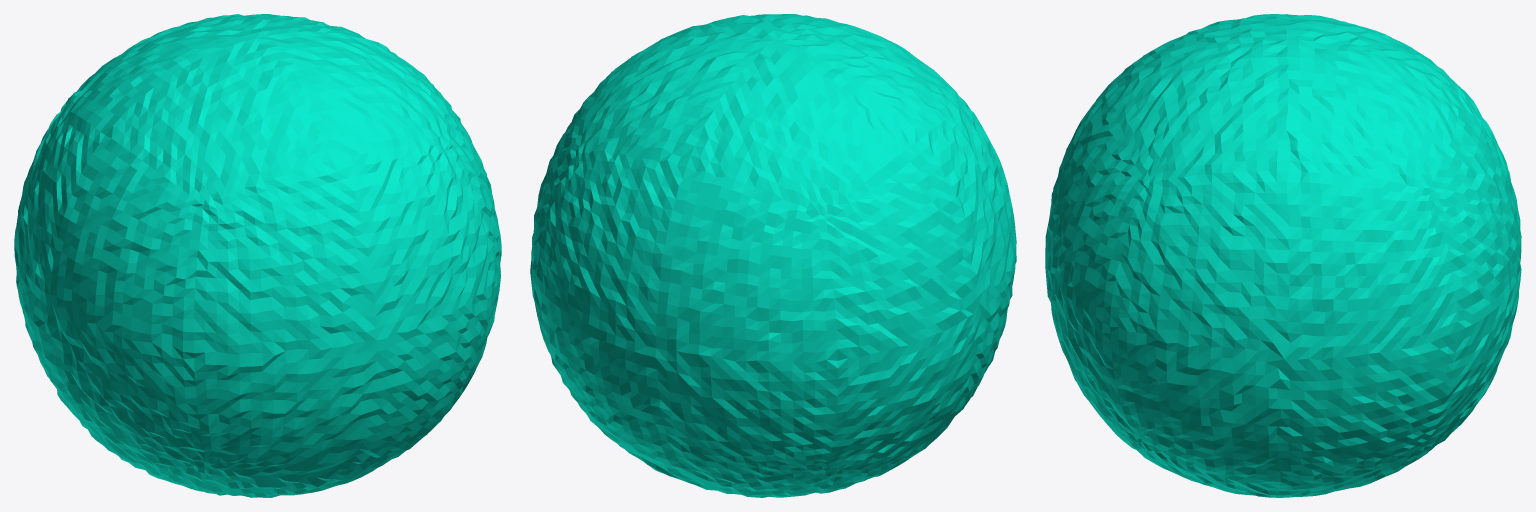
File: Sea23.fbx
3 views of the same model, side by side, from view 1: azimuth 30°, elevation 25°; view 2: azimuth 150°, elevation 25°; view 3: azimuth 270°, elevation 25° (orthographic).
Parts seen in each view (by area): view 1: pCube1; view 2: pCube1; view 3: pCube1.
Part boxes in pixels (x1,y1,x2,y2): pCube1: (14, 14, 501, 497); pCube1: (530, 14, 1016, 497); pCube1: (1045, 14, 1521, 497).
Size of the model in its own units: 39.97 by 39.92 by 39.87.
